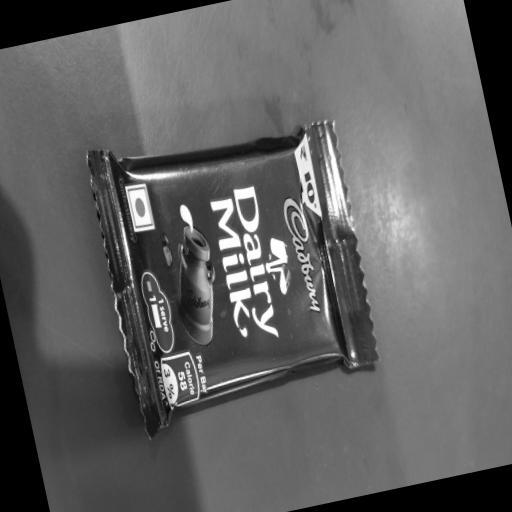chocolate: (89, 110, 388, 424)
dairy-Milk: (205, 186, 288, 346), (280, 192, 326, 312)
